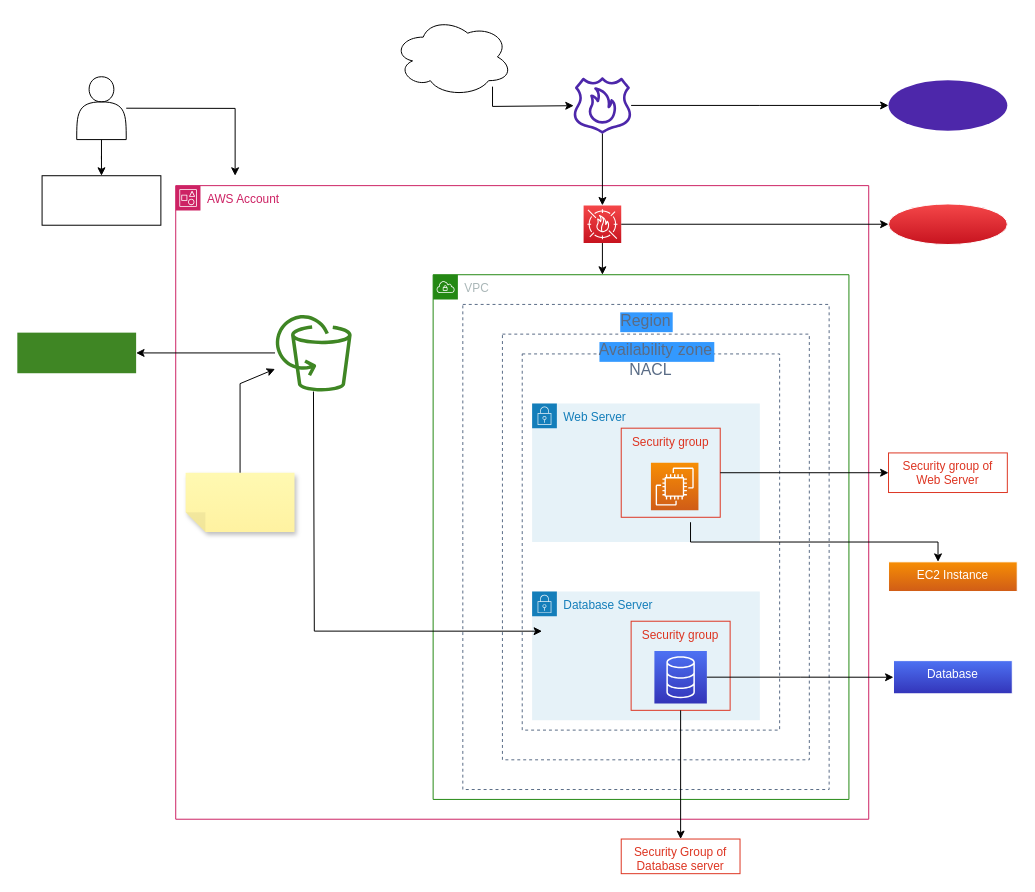
This 1035x892 diagram has some shape labels left out. Here are the shapes that lost their labels. From the top down, the centre of each, then its label:
At (452,56): "I Internet".
At (947,105): "Route 53 Resolver DNS Firewall".
At (101,200): "IAM USER (Workforce)".
At (947,224): "Web Applictation Firewall (WAF)".
At (76,352): "S3 Bucket for BACKUPS".
At (240,503): "HSM OR KMS for data encryption".
